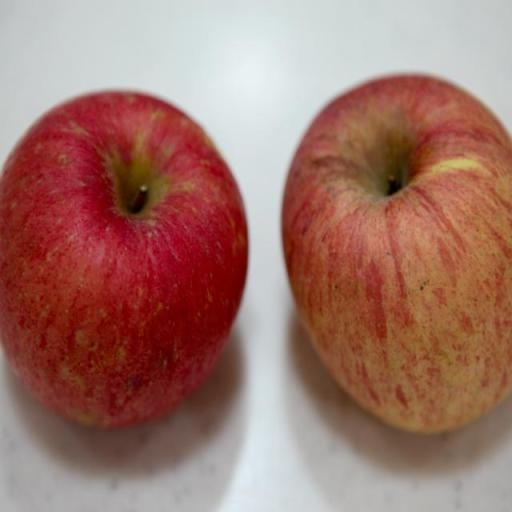fruit: (0, 92, 246, 427), (282, 76, 511, 431)
